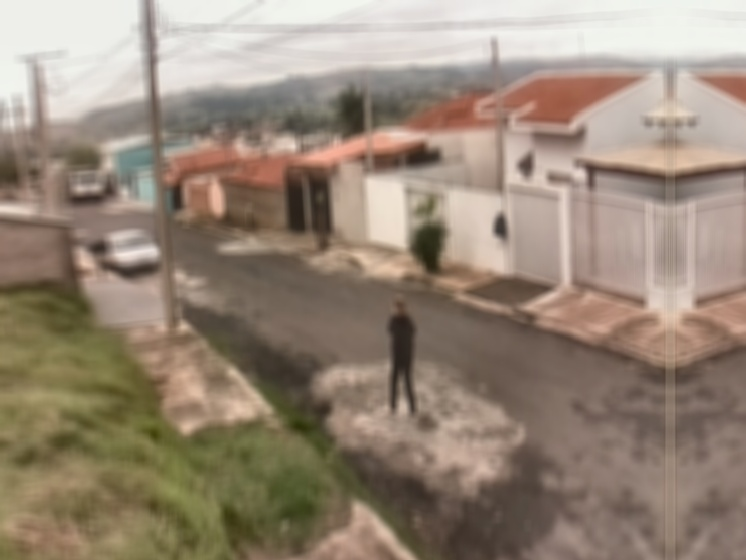person: (386, 294, 417, 421)
